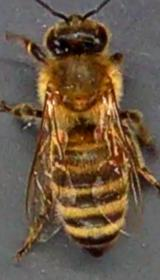varroa_mite: (99, 139, 131, 171)
